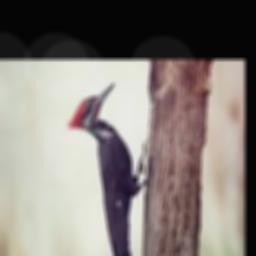Woodpecker: (67, 81, 148, 256)
